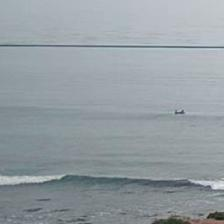surfer: (174, 110, 184, 114)
